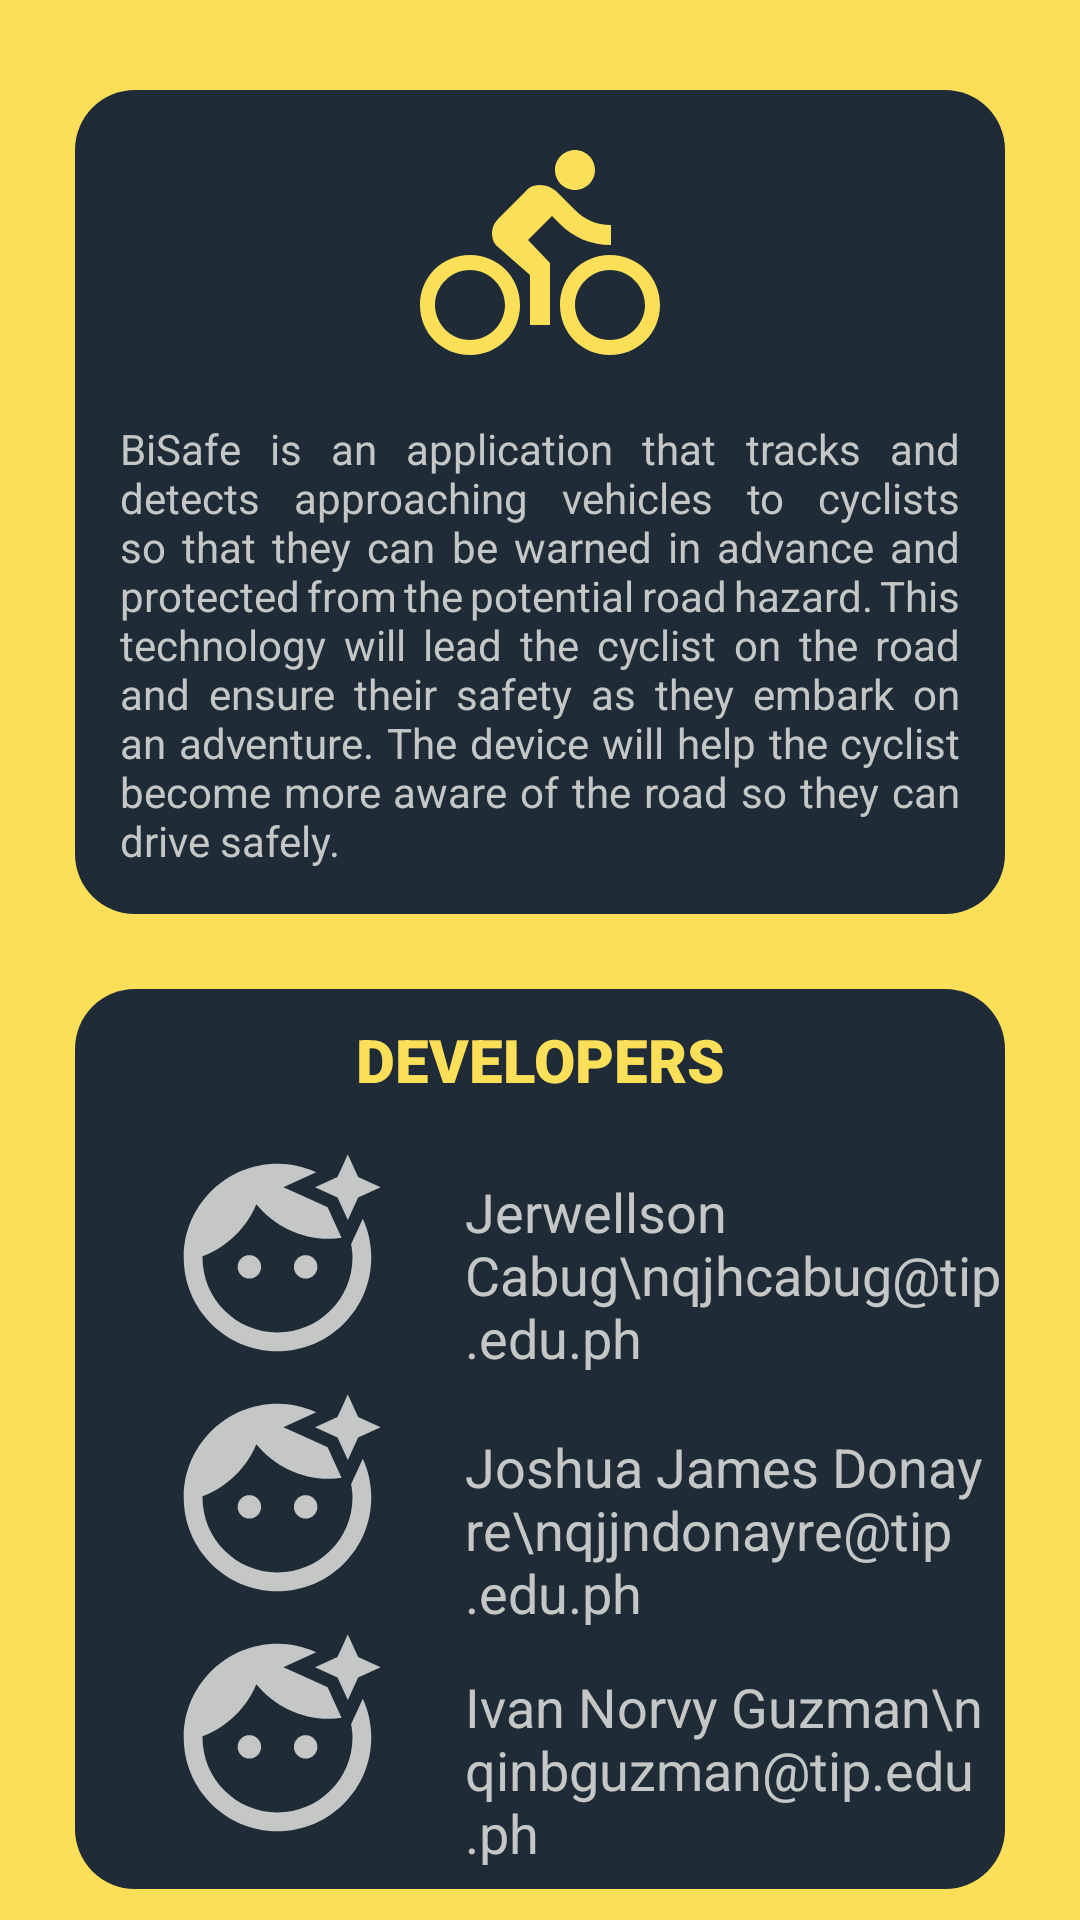

Icons on this 1080x1920 Android screen, each with its box as (x1, y1, x2, y2):
bike: (420, 150, 660, 355)
face retouching natural: (183, 1155, 381, 1352), (183, 1395, 381, 1592), (183, 1635, 381, 1832)
